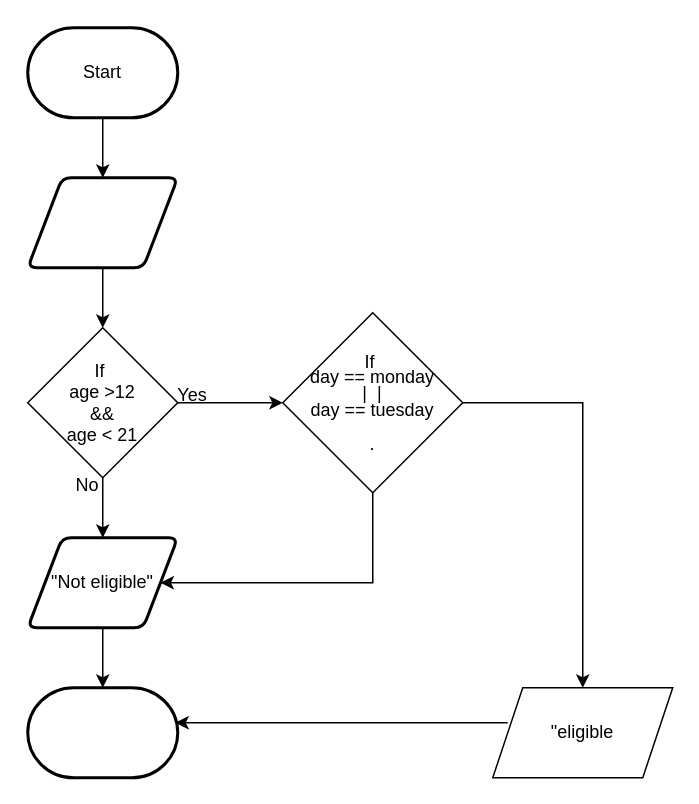
This 699x804 diagram has some shape labels left out. Each missing label, with the centre of its shape:
"Const Age Const Day" goes at pixel 102 222.
"Stop" goes at pixel 102 732.
